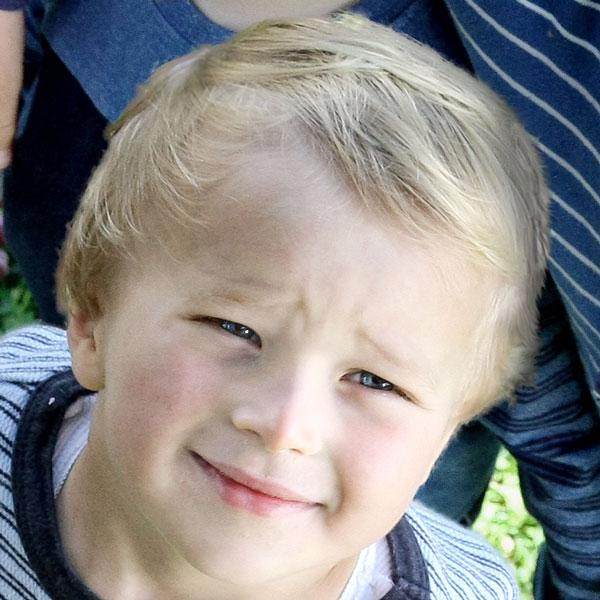Eyes: (177, 296, 270, 359), (336, 356, 422, 412)
